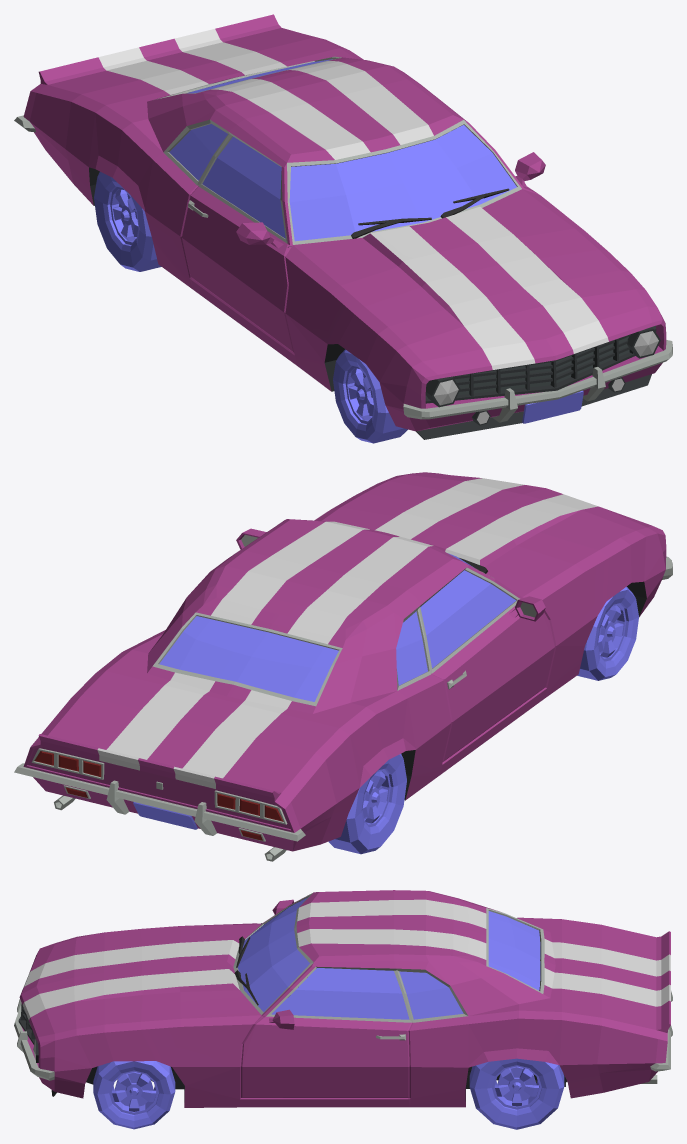
Rendered from Car.glb.
3 views of the same model, one above another, from view 1: azimuth 30°, elevation 25°; view 2: azimuth 150°, elevation 25°; view 3: azimuth 270°, elevation 25° (orthographic). The views are drawn at different scales.
Parts seen in each view (by area): view 1: SM_Veh_Car_Muscle_01, SM_Veh_Car_Muscle_Glass, SM_Veh_Car_Muscle_Wheel_rr, SM_Veh_Car_Muscle_Wheel_fr, SM_Veh_Car_Muscle_Plates; view 2: SM_Veh_Car_Muscle_01, SM_Veh_Car_Muscle_Glass, SM_Veh_Car_Muscle_Wheel_rr, SM_Veh_Car_Muscle_Wheel_fr, SM_Veh_Car_Muscle_Plates; view 3: SM_Veh_Car_Muscle_01, SM_Veh_Car_Muscle_Glass, SM_Veh_Car_Muscle_Wheel_rl, SM_Veh_Car_Muscle_Wheel_fl.
Part boxes in pixels (bbox=[...]): SM_Veh_Car_Muscle_01: bbox=[14, 14, 672, 439]; SM_Veh_Car_Muscle_Glass: bbox=[169, 59, 516, 241]; SM_Veh_Car_Muscle_Wheel_rr: bbox=[94, 171, 161, 271]; SM_Veh_Car_Muscle_Wheel_fr: bbox=[333, 349, 407, 443]; SM_Veh_Car_Muscle_Plates: bbox=[522, 390, 583, 423]; SM_Veh_Car_Muscle_01: bbox=[14, 472, 672, 861]; SM_Veh_Car_Muscle_Glass: bbox=[159, 553, 515, 701]; SM_Veh_Car_Muscle_Wheel_rr: bbox=[328, 754, 406, 854]; SM_Veh_Car_Muscle_Wheel_fr: bbox=[577, 586, 638, 680]; SM_Veh_Car_Muscle_Plates: bbox=[133, 802, 197, 829]; SM_Veh_Car_Muscle_01: bbox=[14, 890, 672, 1107]; SM_Veh_Car_Muscle_Glass: bbox=[237, 897, 540, 1019]; SM_Veh_Car_Muscle_Wheel_rl: bbox=[469, 1058, 564, 1129]; SM_Veh_Car_Muscle_Wheel_fl: bbox=[93, 1061, 175, 1129].
Bounding box in the file's own units: 0.243 × 0.1493 × 0.5643.
2 materials, 2 textured.
